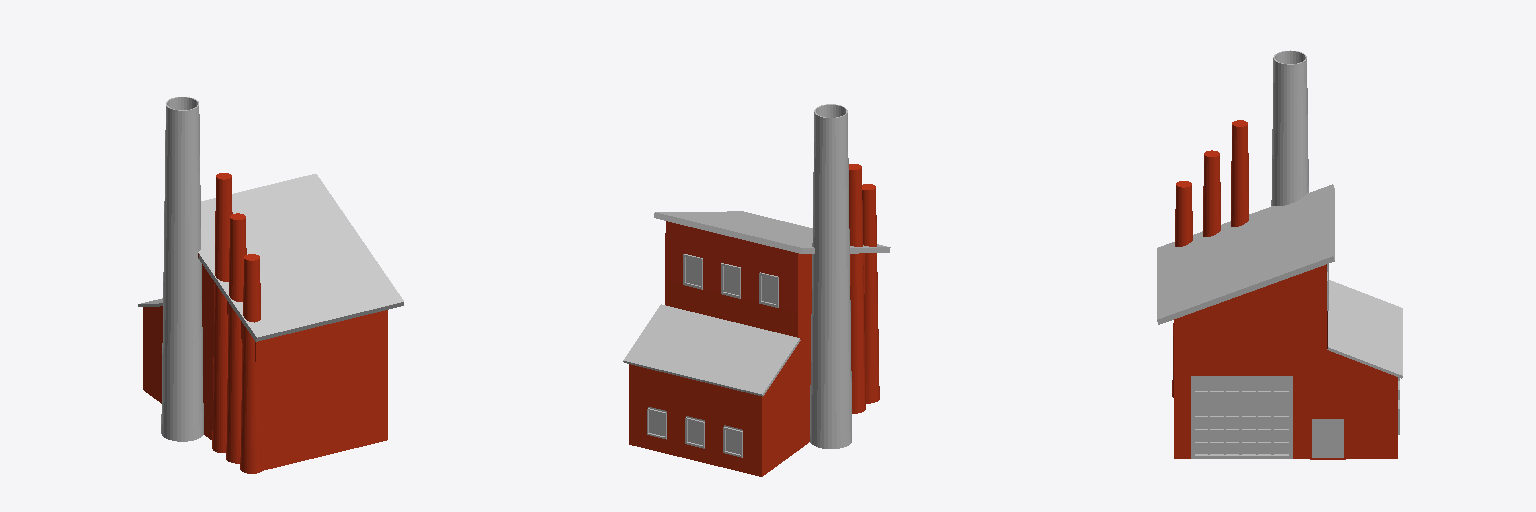
File: factory.obj
3 views of the same model, side by side, from view 1: azimuth 30°, elevation 25°; view 2: azimuth 150°, elevation 25°; view 3: azimuth 270°, elevation 25° (orthographic).
Visible parts, largest first — view 1: Cube, Cylinder.003, Cylinder.002, Cylinder, Cylinder.001; view 2: Cube, Cylinder.003, Cylinder.001, Cylinder; view 3: Cube, Cylinder.003, Cylinder.002, Cylinder.001, Cylinder.
Part boxes in pixels (x1,y1,x2,y2): Cube: (138,174,403,470); Cylinder.003: (161,97,203,441); Cylinder.002: (212,173,232,452); Cylinder: (240,254,261,473); Cylinder.001: (226,213,246,463); Cube: (623,211,890,476); Cylinder.003: (810,104,851,448); Cylinder.001: (849,164,865,413); Cylinder: (862,184,879,403); Cube: (1157,184,1402,459); Cylinder.003: (1271,50,1308,205); Cylinder.002: (1231,120,1248,226); Cylinder.001: (1203,150,1220,236); Cylinder: (1172,181,1192,397).
Bounding box in the file's own units: 6.81 × 12.37 × 8.38.